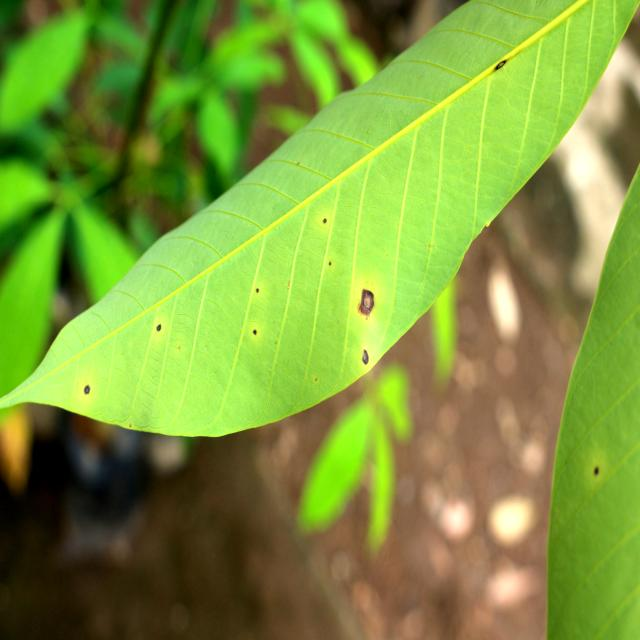Colletotrichum: (360, 289, 374, 316), (362, 350, 369, 365), (84, 385, 90, 393), (157, 324, 161, 331), (253, 330, 257, 335), (323, 218, 327, 223)
